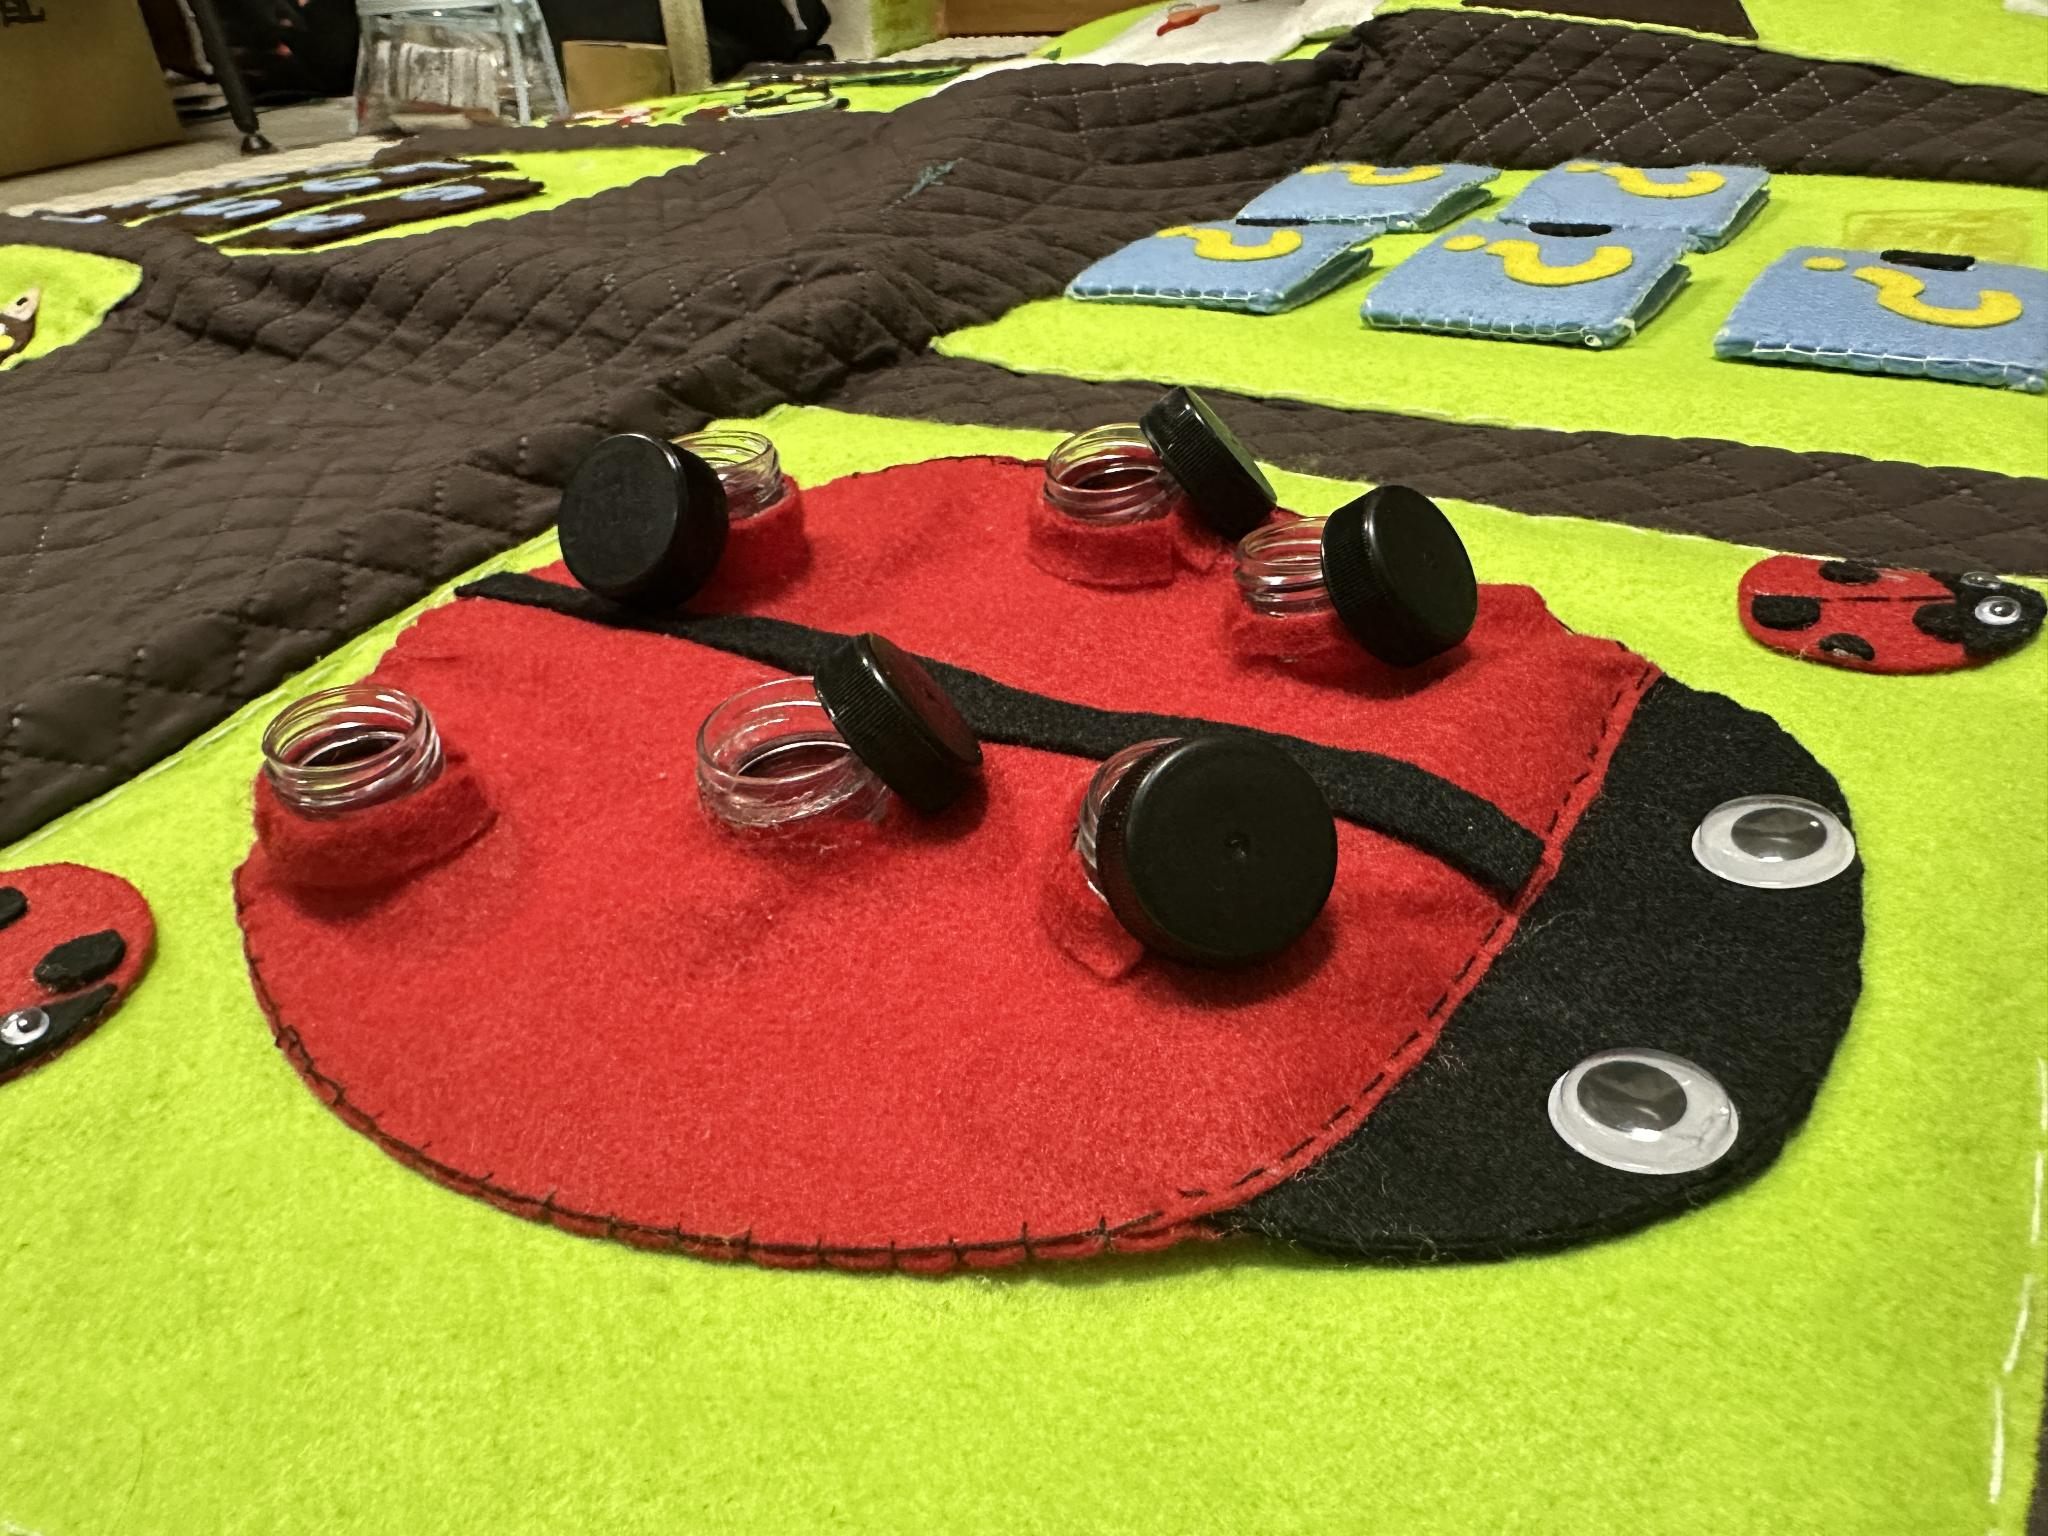cap_ng: (1047, 728, 1369, 1010), (671, 626, 1013, 870), (547, 408, 839, 618), (1014, 373, 1293, 592), (1232, 489, 1503, 700)
